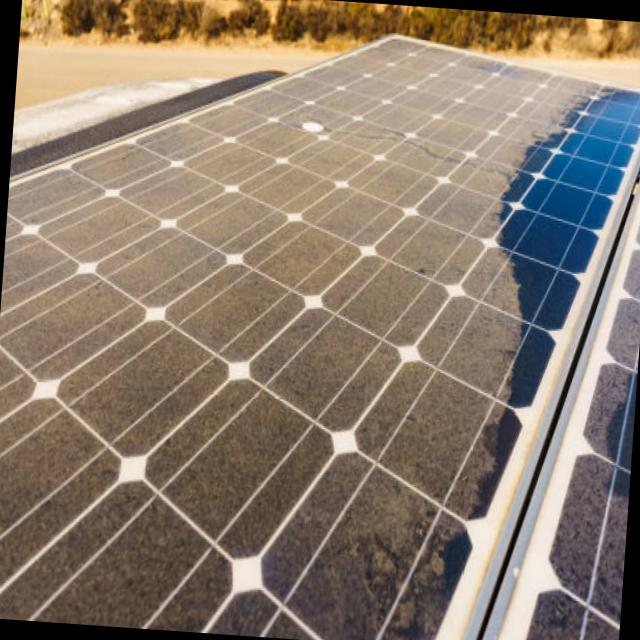faulty: (0, 37, 640, 640)
